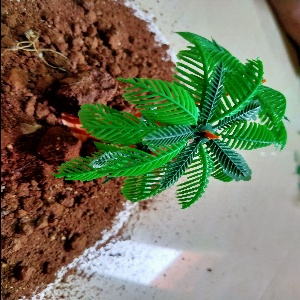plant: (68, 33, 282, 203)
